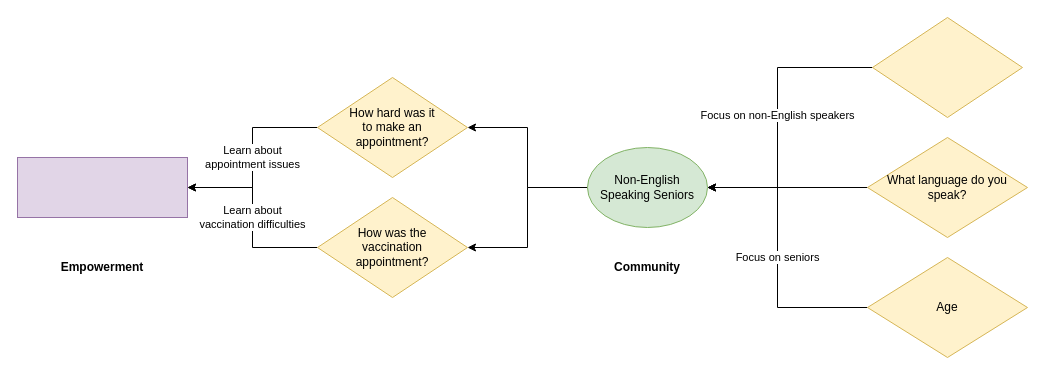
Image size: 1045x375. Some labels were removed from this diagram. The box of each missing label's shape, as (x1, y1, x2, y2) in pixels:
Do you speak English fluently?: (872, 16, 1022, 118)
Learn about how hard it is for this community to access vaccines: (16, 156, 188, 218)
